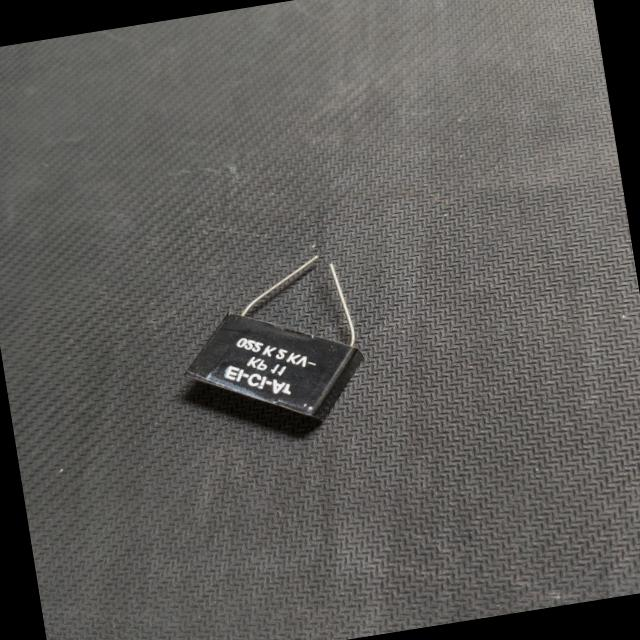capacitor: (154, 242, 386, 451)
